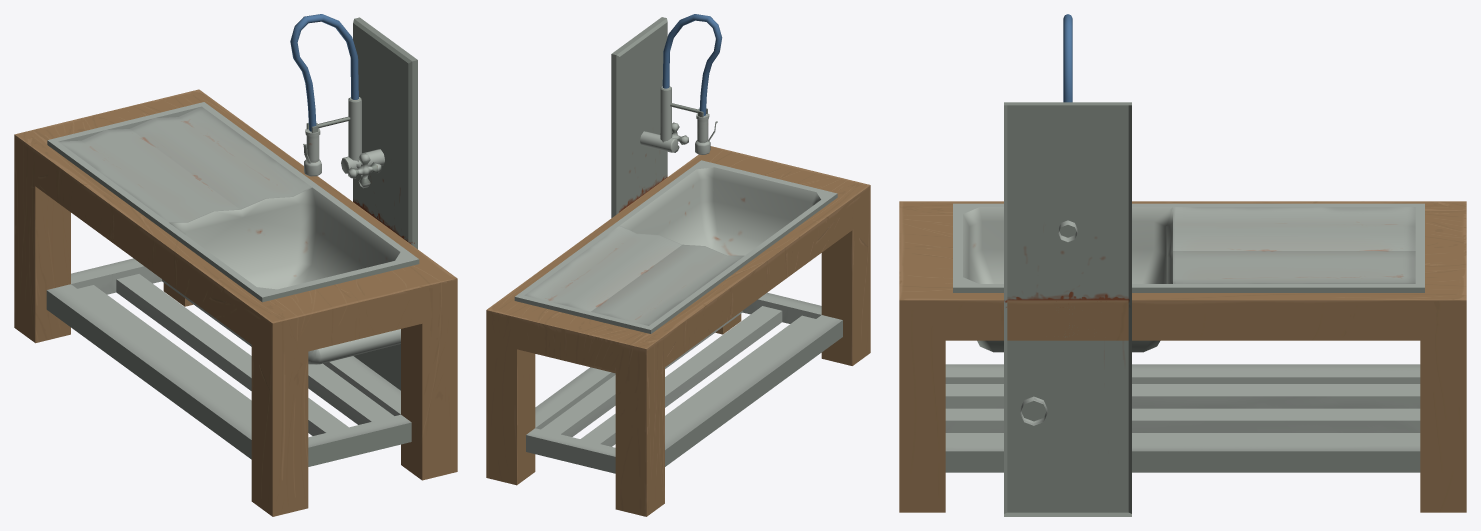
File: SinkFBX.fbx
3 renders of one model, left to right at view 1: azimuth 30°, elevation 25°; view 2: azimuth 150°, elevation 25°; view 3: azimuth 270°, elevation 25°, orthographic. The views are drawn at different scales.
Visible parts, largest first — view 1: Sink; view 2: Sink; view 3: Sink.
Boxes of the visible parts, x1,y1,x2,y2 form: Sink: (14,14,457,516); Sink: (486,14,870,516); Sink: (899,14,1466,516).
Bounding box in the file's own units: 1.04 × 2.16 × 2.42.
